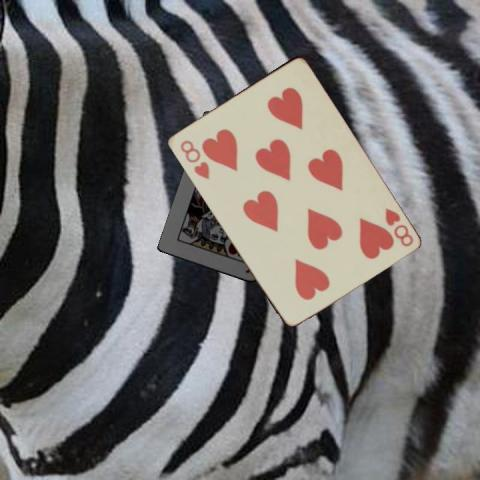8h: (176, 136, 210, 180), (381, 205, 415, 248)
